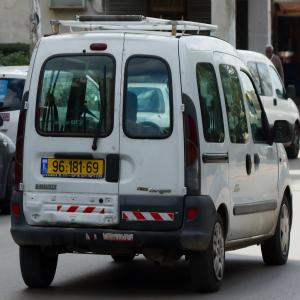Vehicle-registration-plate: (41, 157, 104, 180)
